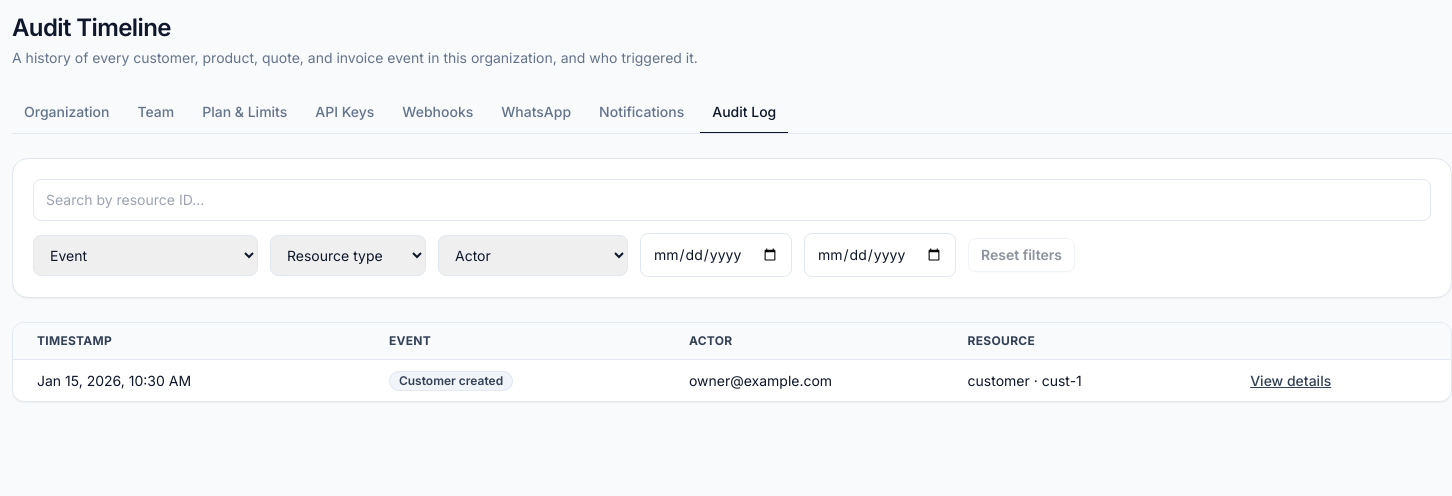
Scenario: SettingsAuditLogPage › rejects an invalid date range client-side and stops fetching while it stays invalid
This screenshot has width=1452, height=496.
Type "2026-06-01" into the 1st date field named "From". click: (716, 255)
box: x1=640 y1=233 x2=792 y2=277
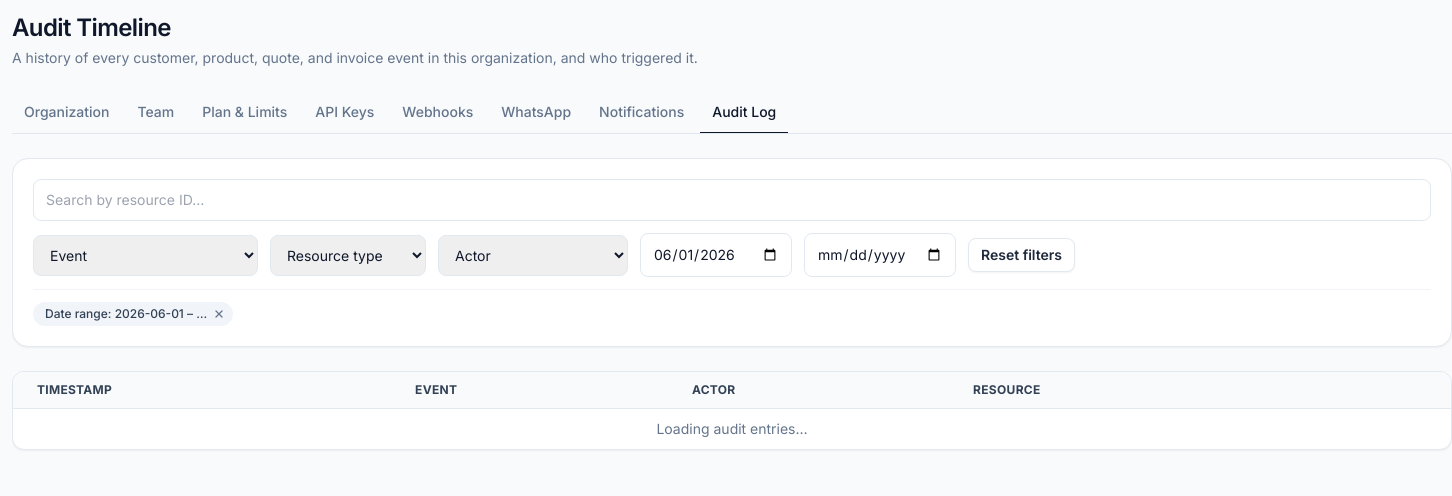
Type "2026-01-01" into the 2nd date field named "To". click: (880, 255)
box: x1=804 y1=233 x2=956 y2=277
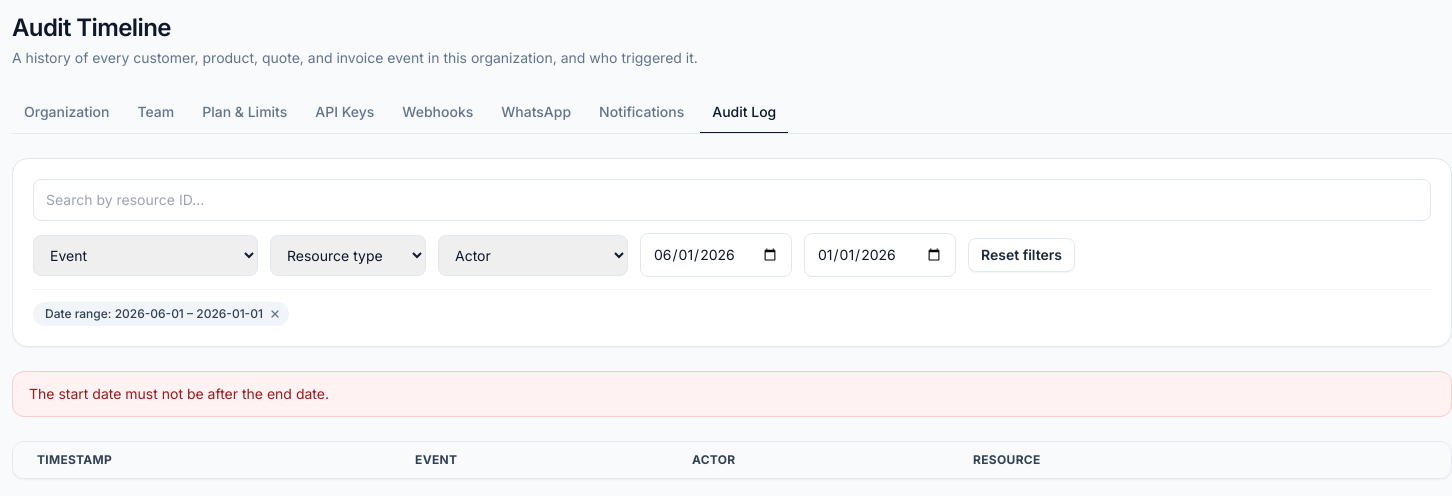
expect the message reads "The start date must not be after the end date.": met, box x1=29 y1=385 x2=329 y2=402
